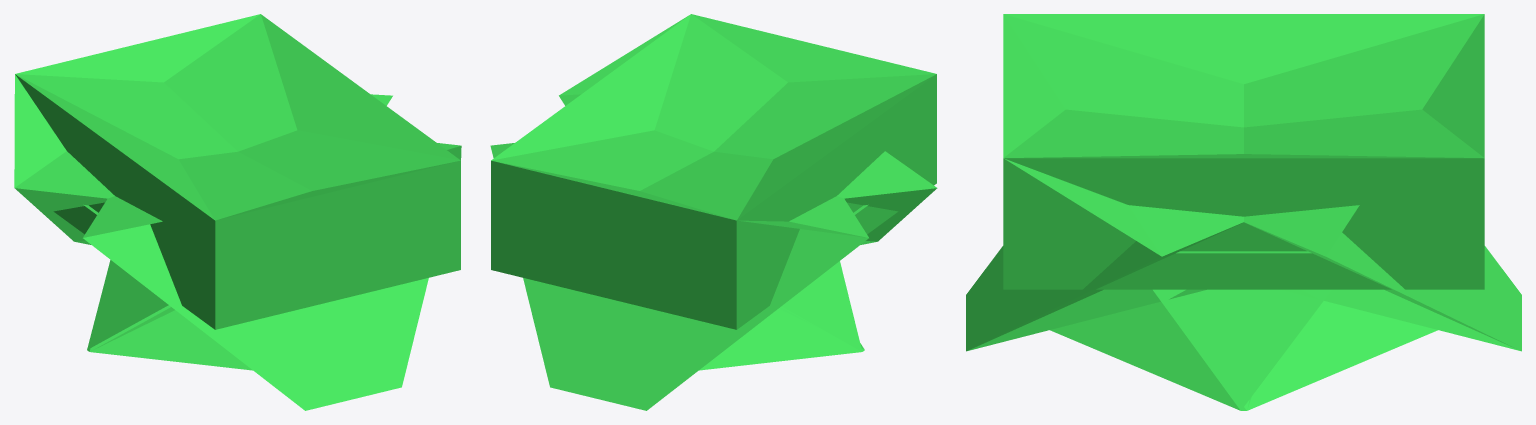
Rendered from flyObj.gltf.
3 renders of one model, left to right at view 1: azimuth 30°, elevation 25°; view 2: azimuth 150°, elevation 25°; view 3: azimuth 270°, elevation 25°, orthographic. The views are drawn at different scales.
Visible parts, largest first — view 1: Cube; view 2: Cube; view 3: Cube.
Part boxes in pixels (x1,y1,x2,y2): Cube: (14, 14, 461, 410); Cube: (490, 14, 937, 410); Cube: (966, 14, 1521, 410).
Size of the model in its own units: 5.07 by 2.52 by 5.36.
